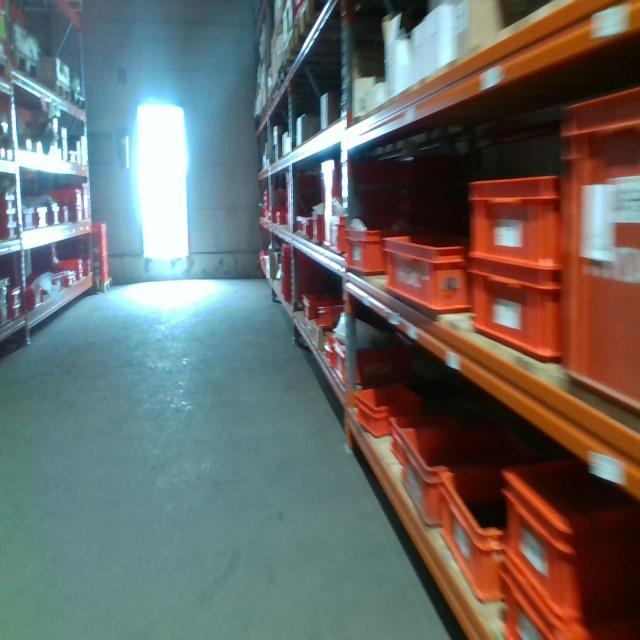pallet: (298, 3, 346, 47), (8, 47, 38, 85), (37, 79, 73, 109), (286, 31, 305, 73), (96, 275, 113, 295)
small_load_carrier: (559, 82, 640, 418), (503, 450, 637, 613), (464, 159, 575, 264), (402, 427, 511, 526), (465, 265, 568, 366), (316, 152, 413, 251), (381, 229, 471, 325), (441, 471, 502, 593), (497, 568, 592, 639), (349, 379, 419, 436), (339, 217, 392, 281), (332, 342, 401, 386), (385, 412, 433, 465), (279, 244, 316, 307), (312, 303, 352, 332), (328, 220, 348, 257), (302, 288, 324, 320), (92, 259, 108, 280), (312, 209, 320, 246), (92, 241, 109, 258), (67, 209, 84, 222)
